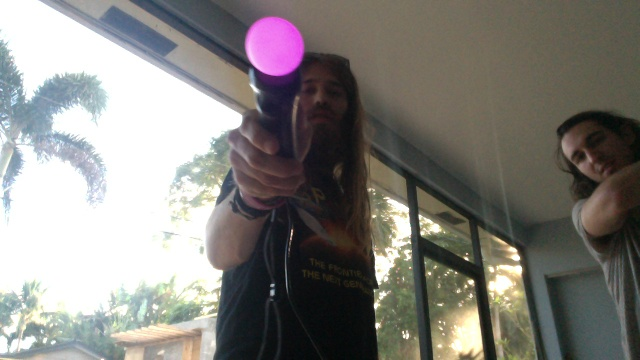wand: (246, 17, 304, 77)
